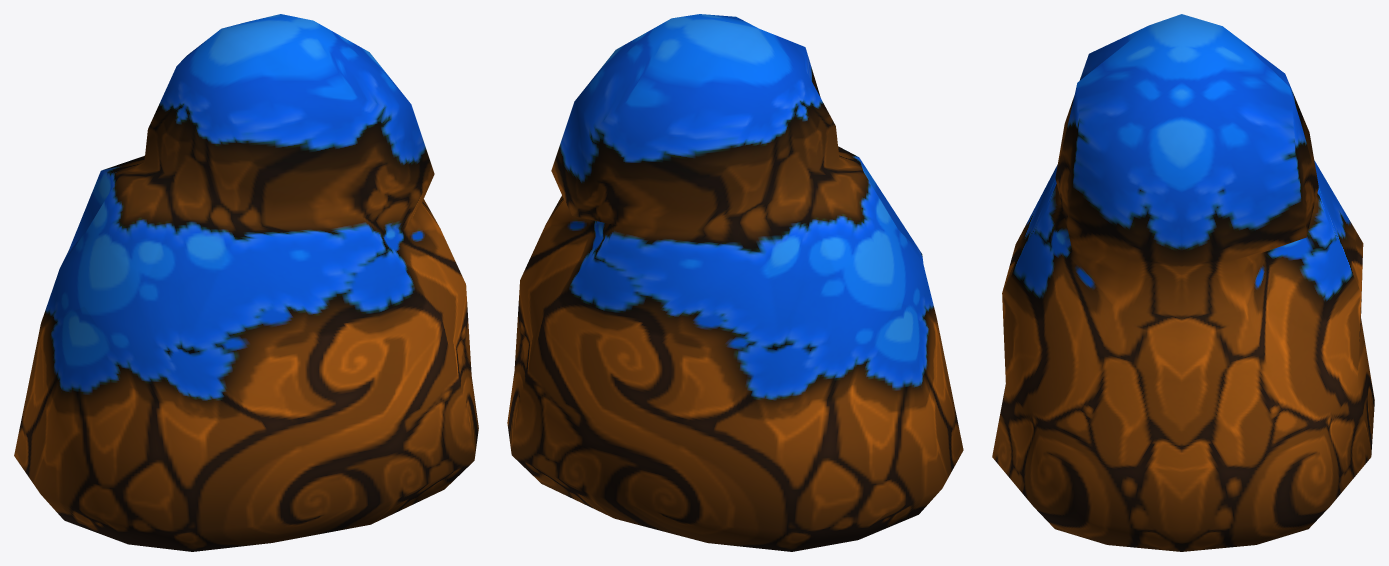
File: Blue_Rock_02.FBX
3 views of the same model, side by side, from view 1: azimuth 30°, elevation 25°; view 2: azimuth 150°, elevation 25°; view 3: azimuth 270°, elevation 25° (orthographic).
Visible parts, largest first — view 1: Blue_Rock_02; view 2: Blue_Rock_02; view 3: Blue_Rock_02.
Boxes of the visible parts, x1,y1,x2,y2 form: Blue_Rock_02: (14, 14, 478, 551); Blue_Rock_02: (507, 14, 963, 551); Blue_Rock_02: (992, 14, 1374, 551).
Size of the model in its own units: 349 by 360 by 281.
